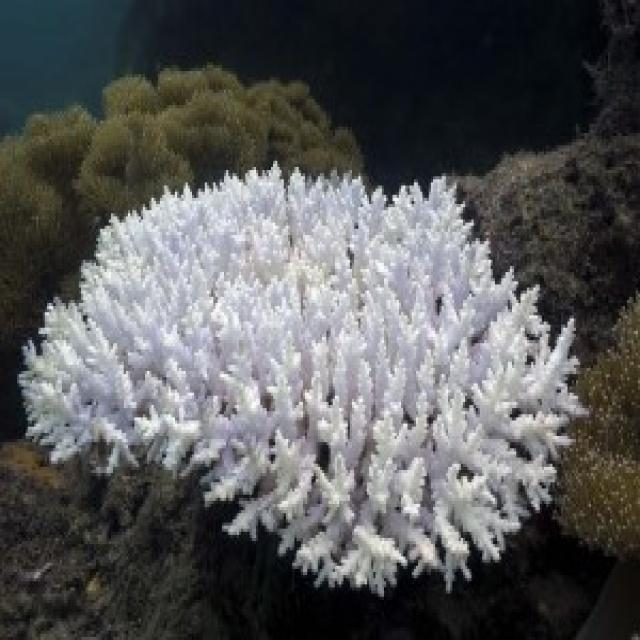Bleached: (18, 161, 590, 596)
Healthy: (2, 454, 202, 640), (6, 70, 361, 160), (469, 145, 640, 324), (584, 294, 640, 563)
